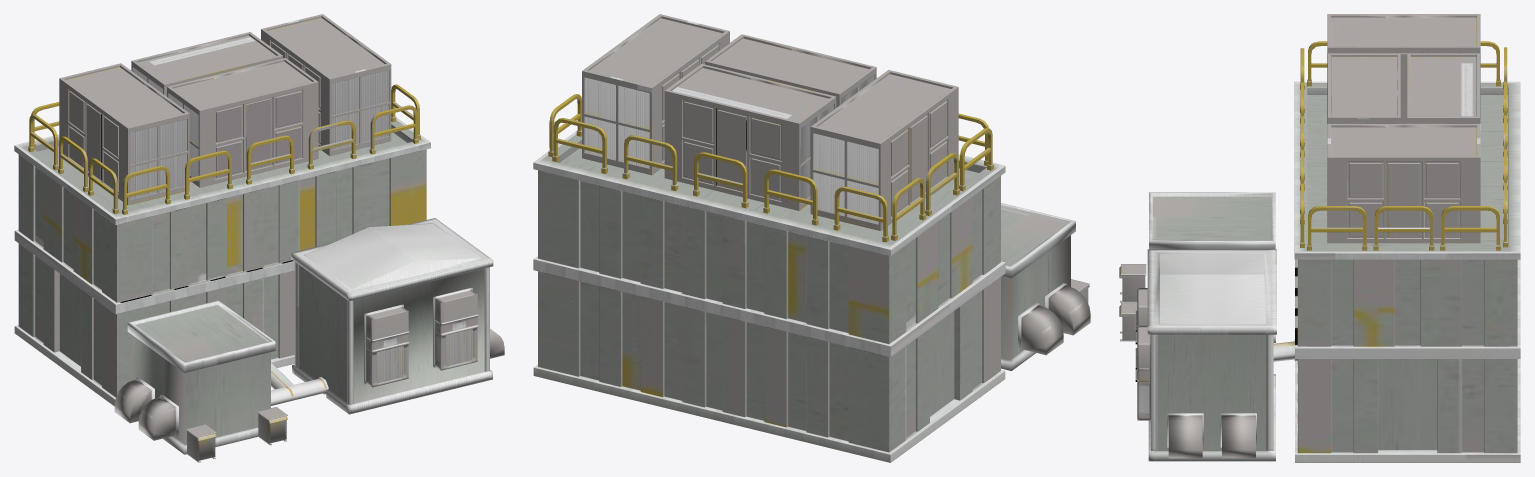
The model's file is BUILDING_Power_1.fbx.
3 views of the same model, side by side, from view 1: azimuth 30°, elevation 25°; view 2: azimuth 150°, elevation 25°; view 3: azimuth 270°, elevation 25° (orthographic). The views are drawn at different scales.
Parts seen in each view (by area): view 1: BUILDING_Power_1_Baked; view 2: BUILDING_Power_1_Baked; view 3: BUILDING_Power_1_Baked.
Part boxes in pixels (x1,y1,x2,y2): BUILDING_Power_1_Baked: [14, 14, 504, 462]; BUILDING_Power_1_Baked: [533, 14, 1090, 462]; BUILDING_Power_1_Baked: [1119, 14, 1520, 462].
Size of the model in its own units: 162 by 115 by 144.
Materials: 1 (1 with a texture image).
